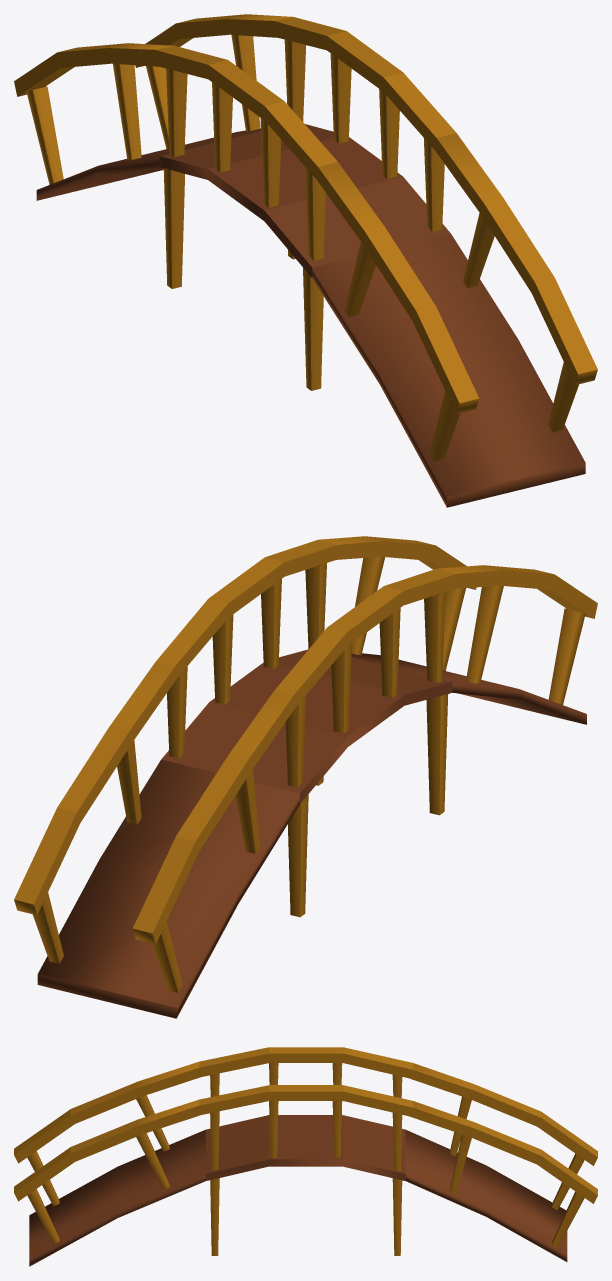
File: puente marron_1.fbx
The picture shows the model from 3 angles, top to bottom: view 1: azimuth 30°, elevation 25°; view 2: azimuth 150°, elevation 25°; view 3: azimuth 270°, elevation 25°; orthographic projection. The views are drawn at different scales.
Visible parts, largest first — view 1: Cubo; view 2: Cubo; view 3: Cubo.
Boxes of the visible parts, <box> form: Cubo: <box>14,14,597,507</box>; Cubo: <box>14,536,597,1018</box>; Cubo: <box>14,1047,597,1266</box>.
Size of the model in its own units: 13.84 by 25.4 by 76.66.
